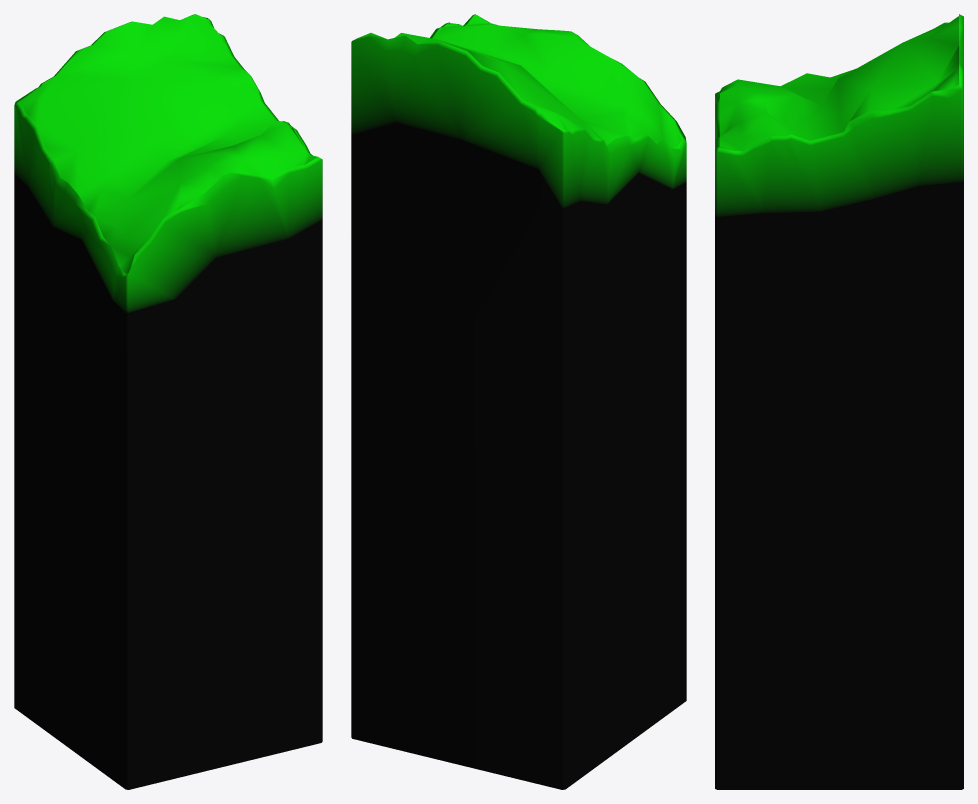
File: pillar_Break_02.fbx
The picture shows the model from 3 angles, left to right: view 1: azimuth 30°, elevation 25°; view 2: azimuth 150°, elevation 25°; view 3: azimuth 270°, elevation 25°; orthographic projection. The views are drawn at different scales.
Visible parts, largest first — view 1: pillar_Break_02; view 2: pillar_Break_02; view 3: pillar_Break_02.
Part boxes in pixels (x1=…): pillar_Break_02: x1=14, y1=14, x2=322, y2=789; pillar_Break_02: x1=351, y1=14, x2=686, y2=789; pillar_Break_02: x1=715, y1=14, x2=963, y2=789.
Bounding box in the file's own units: 50 × 160 × 50.
